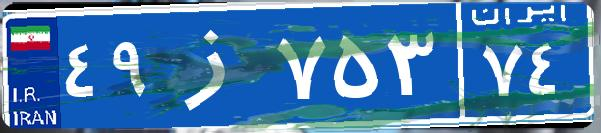3: (385, 28, 445, 110)
4: (57, 26, 110, 107), (525, 38, 570, 115)
5: (330, 28, 385, 110)
7: (273, 28, 330, 110), (475, 38, 525, 113)
9: (110, 28, 158, 105)
ز: (158, 15, 273, 115)
